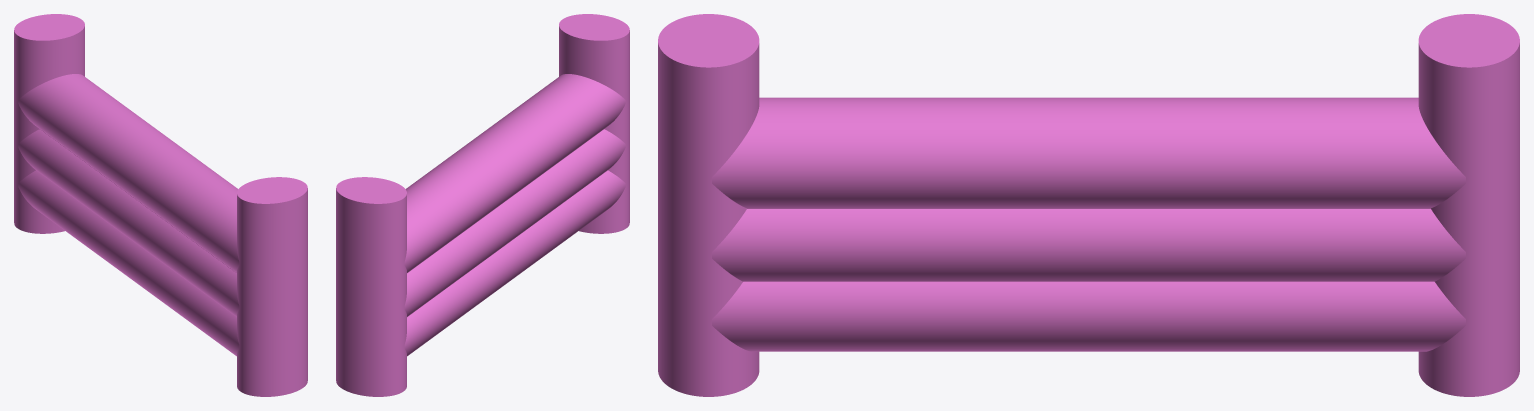
File: fence.fbx
The picture shows the model from 3 angles, left to right: view 1: azimuth 30°, elevation 25°; view 2: azimuth 150°, elevation 25°; view 3: azimuth 270°, elevation 25°; orthographic projection. The views are drawn at different scales.
Visible parts, largest first — view 1: Cylinder.001; view 2: Cylinder.001; view 3: Cylinder.001.
Boxes of the visible parts, x1,y1,x2,y2 form: Cylinder.001: (14, 14, 307, 396); Cylinder.001: (336, 14, 629, 396); Cylinder.001: (658, 14, 1519, 396).
Size of the model in its own units: 140 by 402 by 953.
